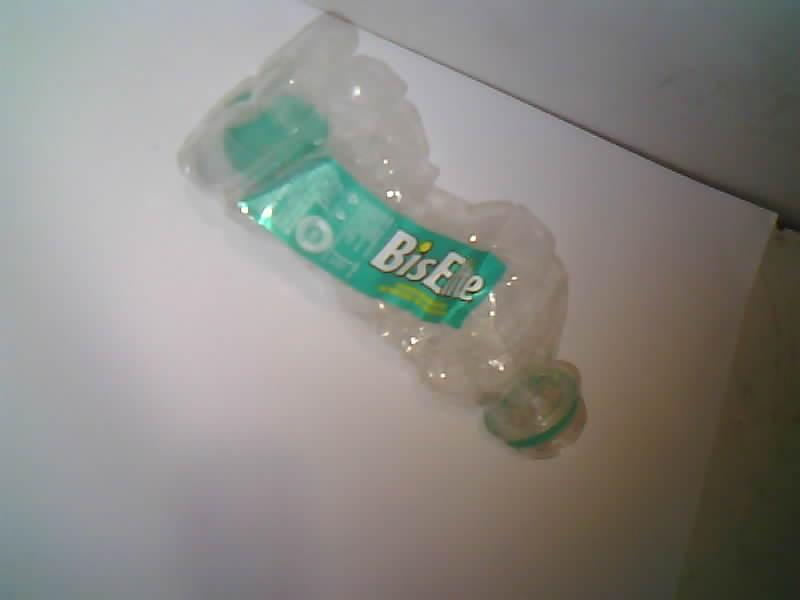non-biodegradable: (179, 16, 583, 456)
